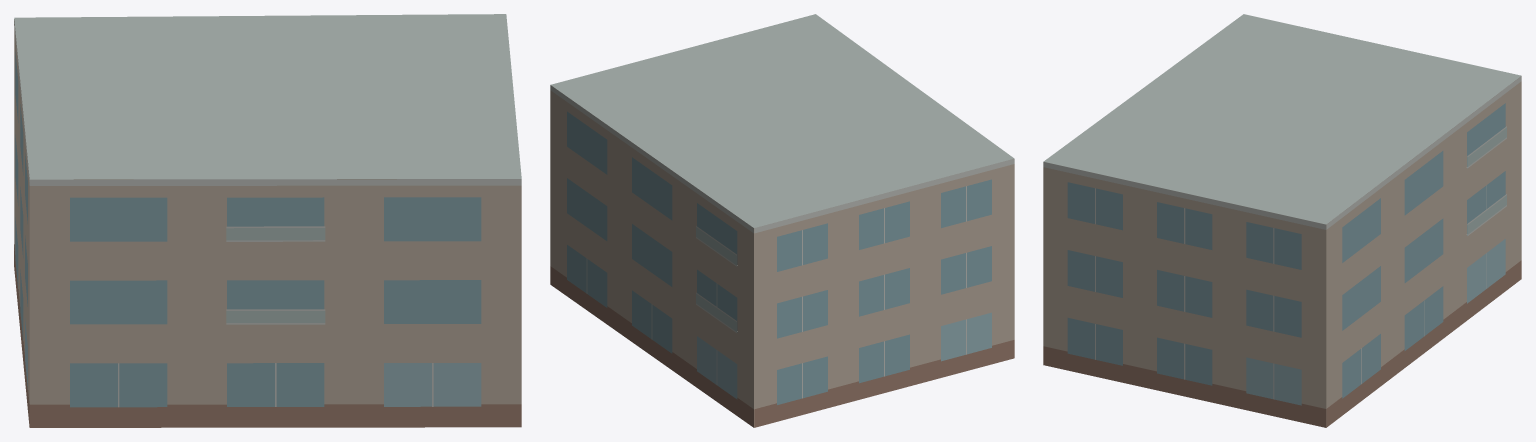
The model's file is survey-upis-32850381.glb.
3 renders of one model, left to right at view 1: azimuth 30°, elevation 25°; view 2: azimuth 150°, elevation 25°; view 3: azimuth 270°, elevation 25°, orthographic. The views are drawn at different scales.
Parts seen in each view (by area): view 1: survey-upis-32850381.tmp; view 2: survey-upis-32850381.tmp; view 3: survey-upis-32850381.tmp.
Boxes of the visible parts, bbox=[...] form: survey-upis-32850381.tmp: bbox=[14, 14, 521, 427]; survey-upis-32850381.tmp: bbox=[550, 14, 1014, 427]; survey-upis-32850381.tmp: bbox=[1043, 14, 1521, 427].
Bounding box in the file's own units: 20.33 × 9.15 × 19.52.
